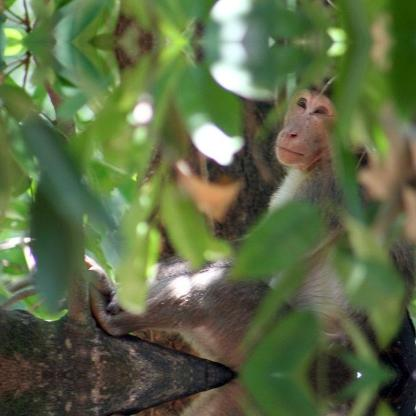Monkey: (84, 78, 414, 370)
